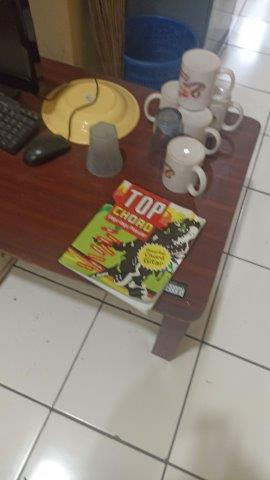kertas: (58, 180, 209, 320)
